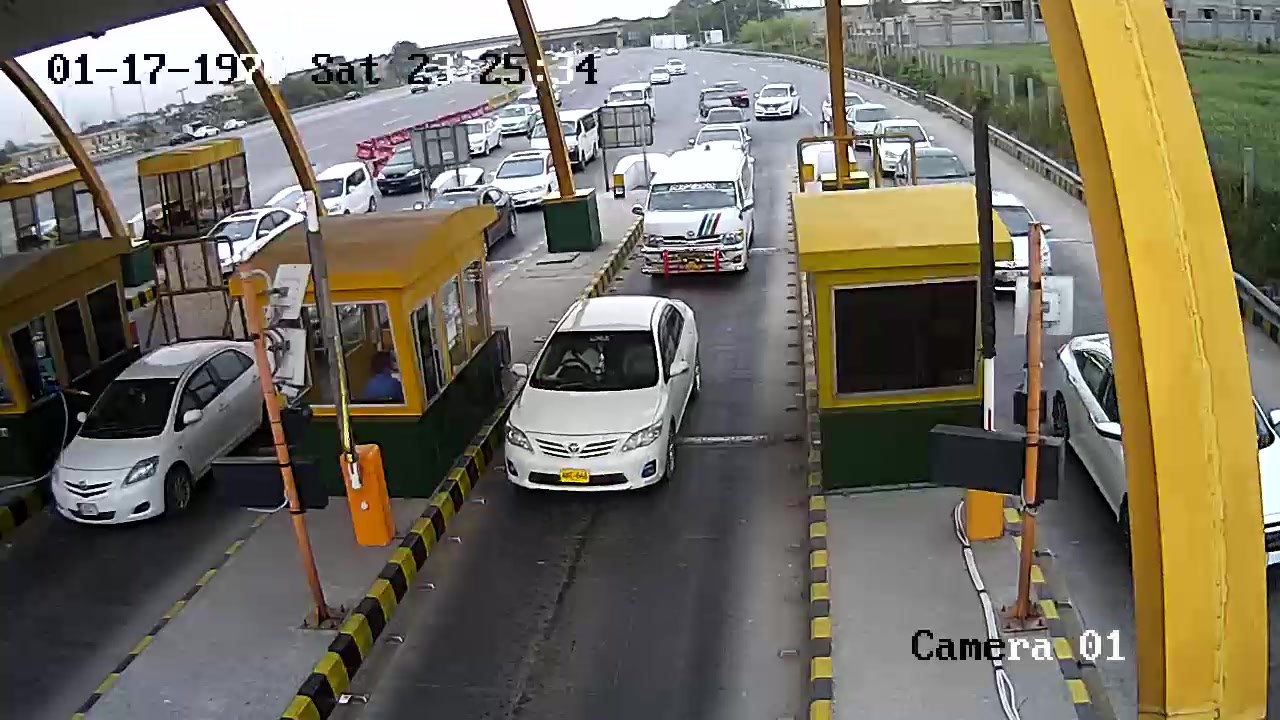F1: (489, 296, 723, 512)
